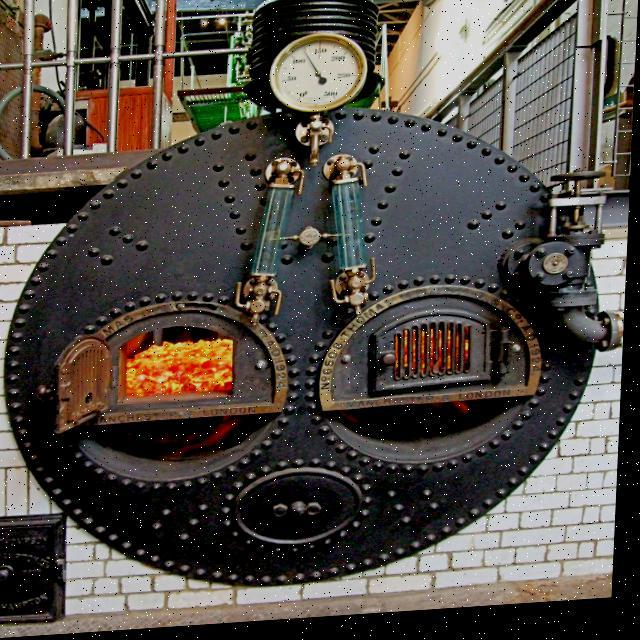Fire: (374, 311, 514, 400), (118, 324, 242, 408)
